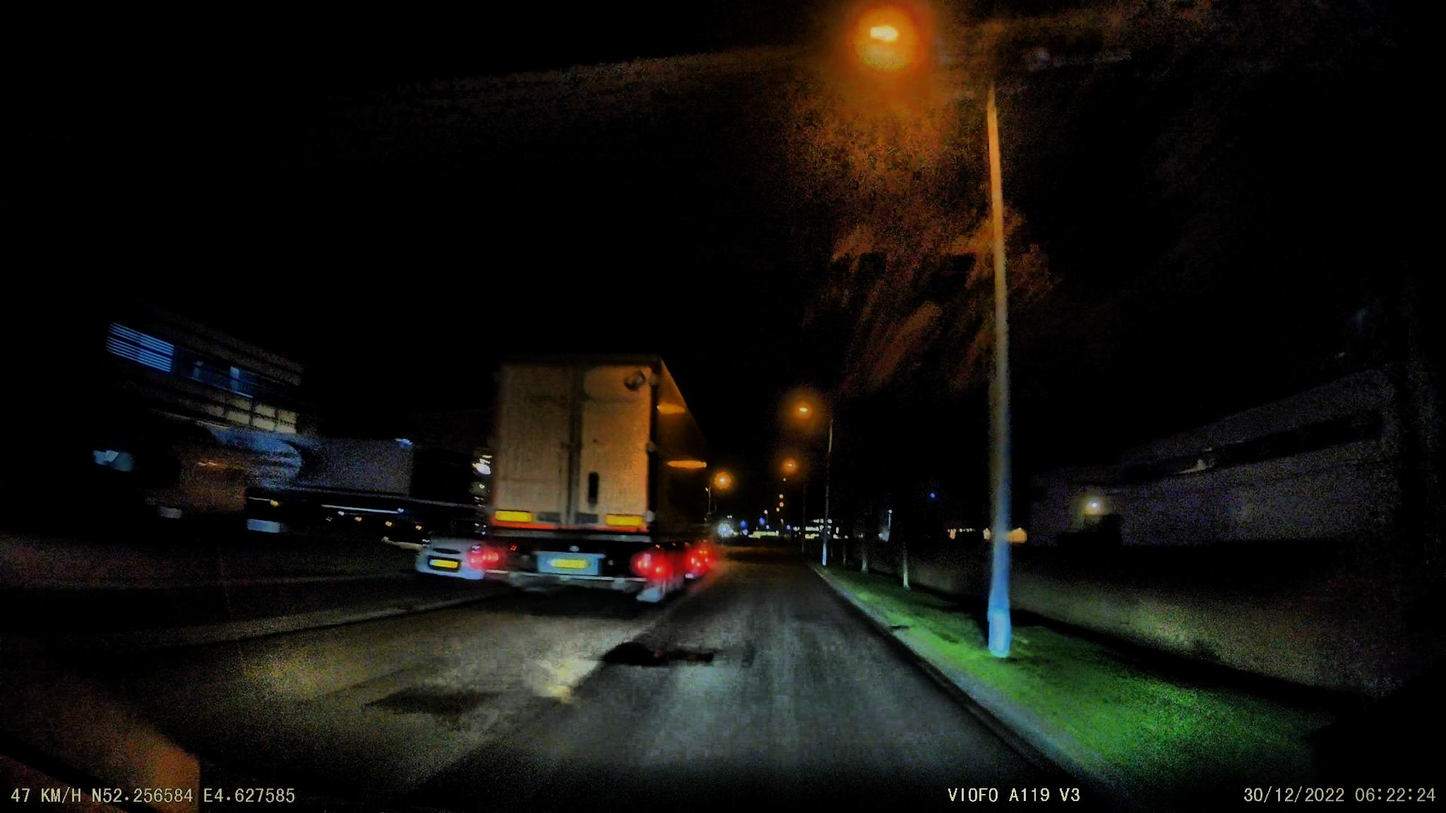Roads: (0, 547, 1095, 813)
